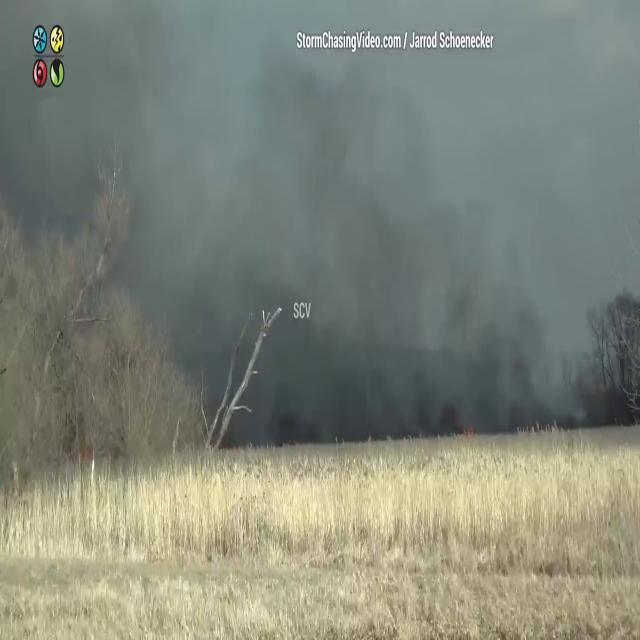Smoke: (88, 0, 594, 443)
